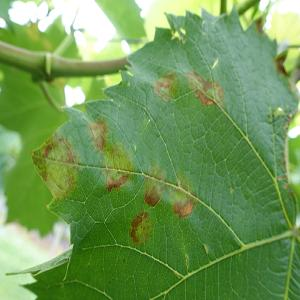Folha: (5, 3, 299, 298)
Fungo: (88, 118, 136, 192), (102, 140, 136, 192), (284, 110, 300, 201), (186, 70, 222, 106), (152, 70, 179, 102), (130, 210, 152, 246), (88, 118, 108, 152), (64, 84, 85, 107), (173, 198, 193, 219), (106, 173, 128, 191), (144, 185, 160, 207), (272, 106, 286, 118)
